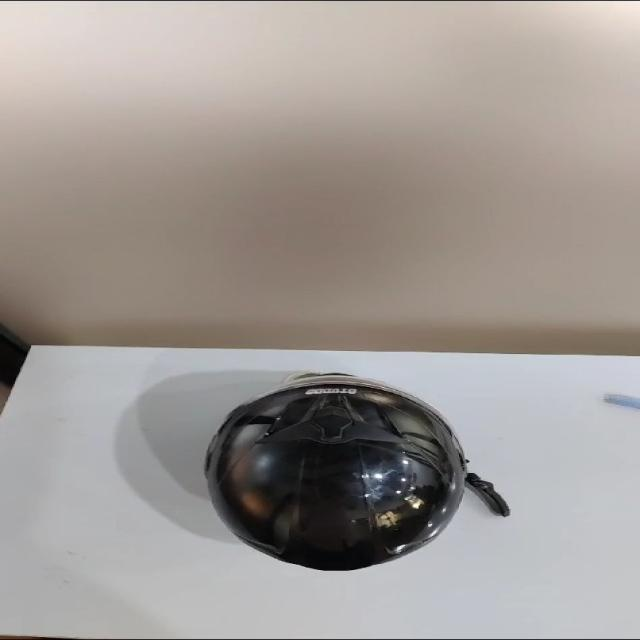helmet: (200, 366, 487, 579)
